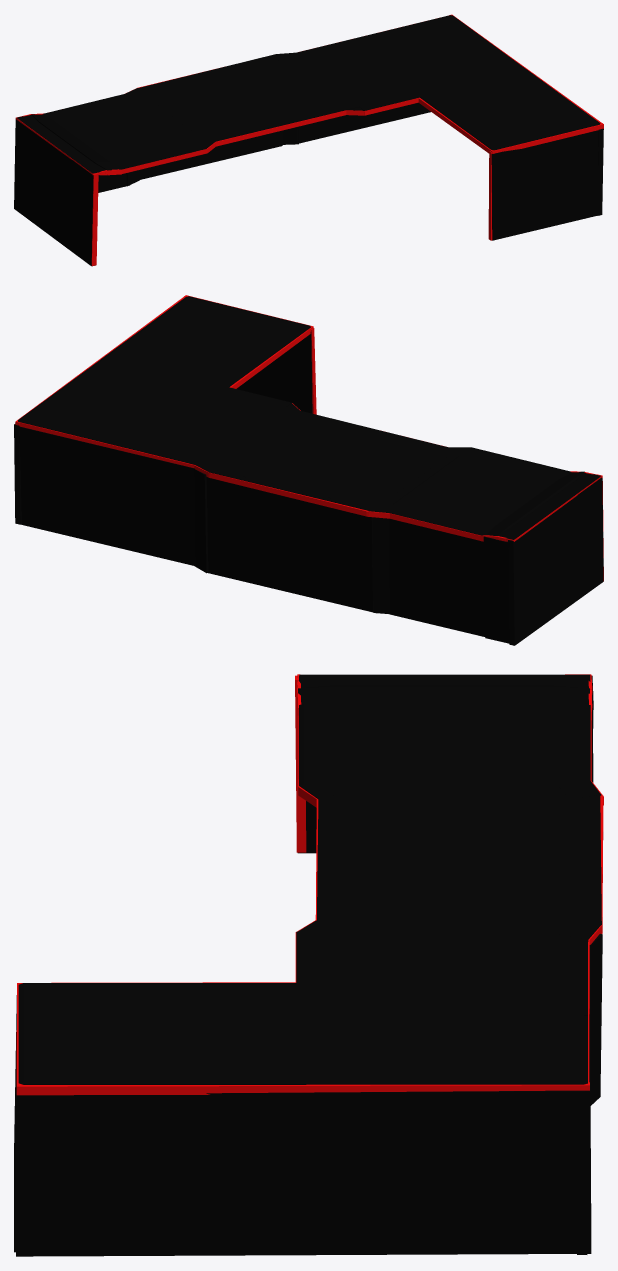
Rendered from gaming_table_red__black.glb.
3 views of the same model, one above another, from view 1: azimuth 30°, elevation 25°; view 2: azimuth 150°, elevation 25°; view 3: azimuth 270°, elevation 25° (orthographic). The views are drawn at different scales.
Parts seen in each view (by area): view 1: Cube.004_3, Cube.044_44, Cube.012_11, Cube.045_45, Cube.011_10, Cube_0, Cube.005_5, Cube.010_9, Cube.039_39, Cube.038_38, Cube.014_13, Cube.013_12 (+9 smaller); view 2: Cube.038_38, Cube.039_39, Cube.005_5, Cube.012_11, Cube.045_45, Cube.040_40, Cube_0, Cube.011_10, Cube.004_3, Cube.010_9, Cube.044_44, Cube.046_46 (+11 smaller); view 3: Cube.043_43, Cube.005_5, Cube.012_11, Cube_0, Cube.011_10, Cube.004_3, Cube.010_9, Cube.013_12, Cube.020_20, Cube.014_13, Cube.042_42, Cube.003_2 (+2 smaller).
Boxes of the visible parts, bbox=[...] form: Cube.004_3: bbox=[165, 57, 429, 141]; Cube.044_44: bbox=[491, 130, 599, 240]; Cube.012_11: bbox=[420, 69, 600, 150]; Cube.045_45: bbox=[14, 119, 95, 266]; Cube.011_10: bbox=[364, 15, 525, 91]; Cube_0: bbox=[42, 94, 206, 169]; Cube.005_5: bbox=[142, 37, 411, 110]; Cube.010_9: bbox=[296, 32, 454, 110]; Cube.039_39: bbox=[139, 130, 282, 179]; Cube.038_38: bbox=[297, 102, 430, 143]; Cube.014_13: bbox=[17, 115, 105, 173]; Cube.013_12: bbox=[31, 114, 119, 174]; Cube.038_38: bbox=[19, 426, 195, 566]; Cube.039_39: bbox=[206, 477, 373, 612]; Cube.005_5: bbox=[123, 402, 436, 507]; Cube.012_11: bbox=[101, 296, 310, 387]; Cube.045_45: bbox=[508, 478, 603, 645]; Cube.040_40: bbox=[389, 518, 484, 636]; Cube_0: bbox=[389, 447, 571, 535]; Cube.011_10: bbox=[18, 358, 204, 446]; Cube.004_3: bbox=[163, 387, 448, 486]; Cube.010_9: bbox=[100, 377, 291, 464]; Cube.044_44: bbox=[236, 332, 312, 413]; Cube.046_46: bbox=[483, 536, 509, 643]; Cube.043_43: bbox=[15, 1087, 591, 1256]; Cube.005_5: bbox=[384, 792, 589, 997]; Cube.012_11: bbox=[18, 983, 306, 1084]; Cube_0: bbox=[299, 703, 590, 785]; Cube.011_10: bbox=[300, 1001, 587, 1084]; Cube.004_3: bbox=[316, 792, 487, 997]; Cube.010_9: bbox=[296, 931, 587, 1015]; Cube.013_12: bbox=[298, 685, 589, 705]; Cube.020_20: bbox=[24, 1082, 589, 1095]; Cube.014_13: bbox=[298, 674, 590, 688]; Cube.042_42: bbox=[590, 933, 602, 1105]; Cube.003_2: bbox=[341, 778, 589, 792].
Bounding box in the file's own units: 3.35 × 0.6842 × 2.05.
